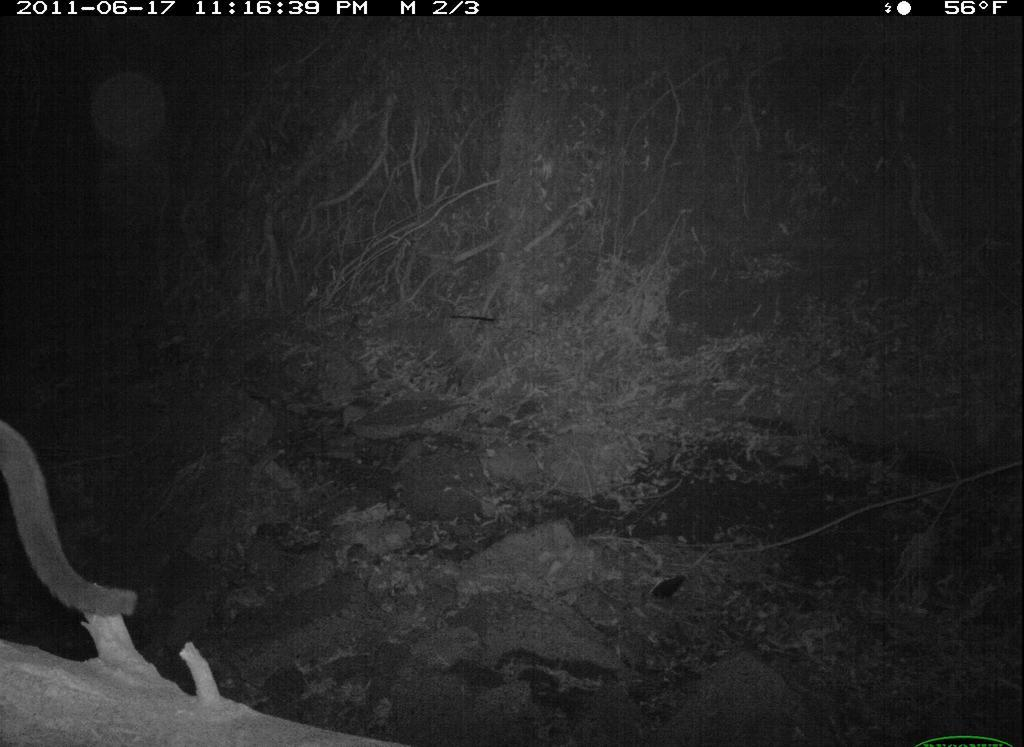cat: (1, 408, 144, 646)
